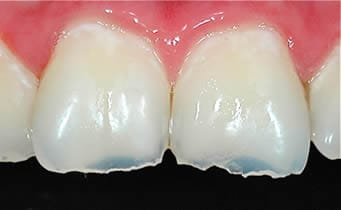rough: (170, 24, 308, 179), (34, 21, 169, 170), (1, 28, 36, 164), (309, 33, 341, 164)
